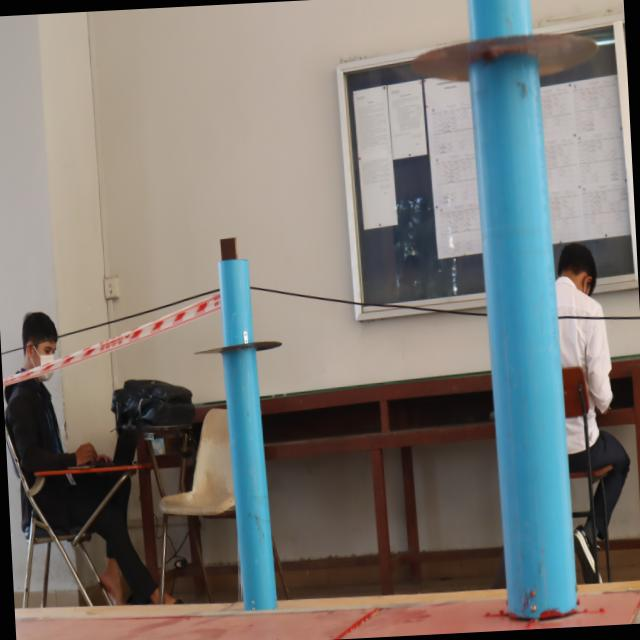pole: (408, 0, 616, 204), (182, 237, 294, 426)
